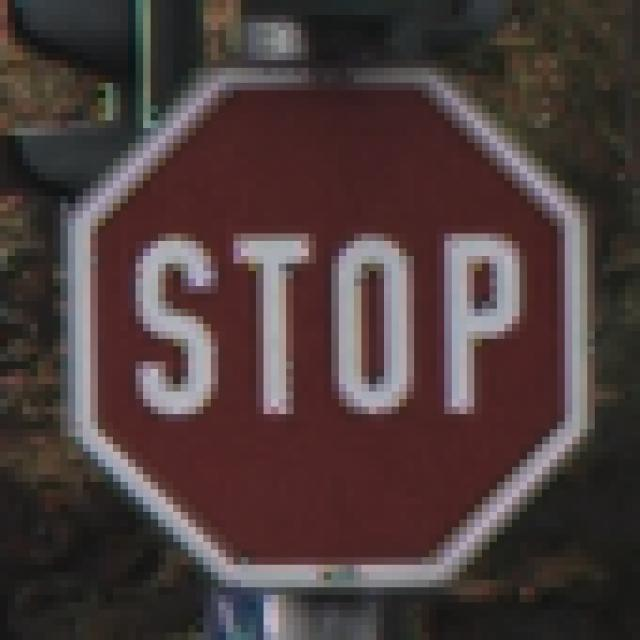STOP: (62, 62, 589, 589)
